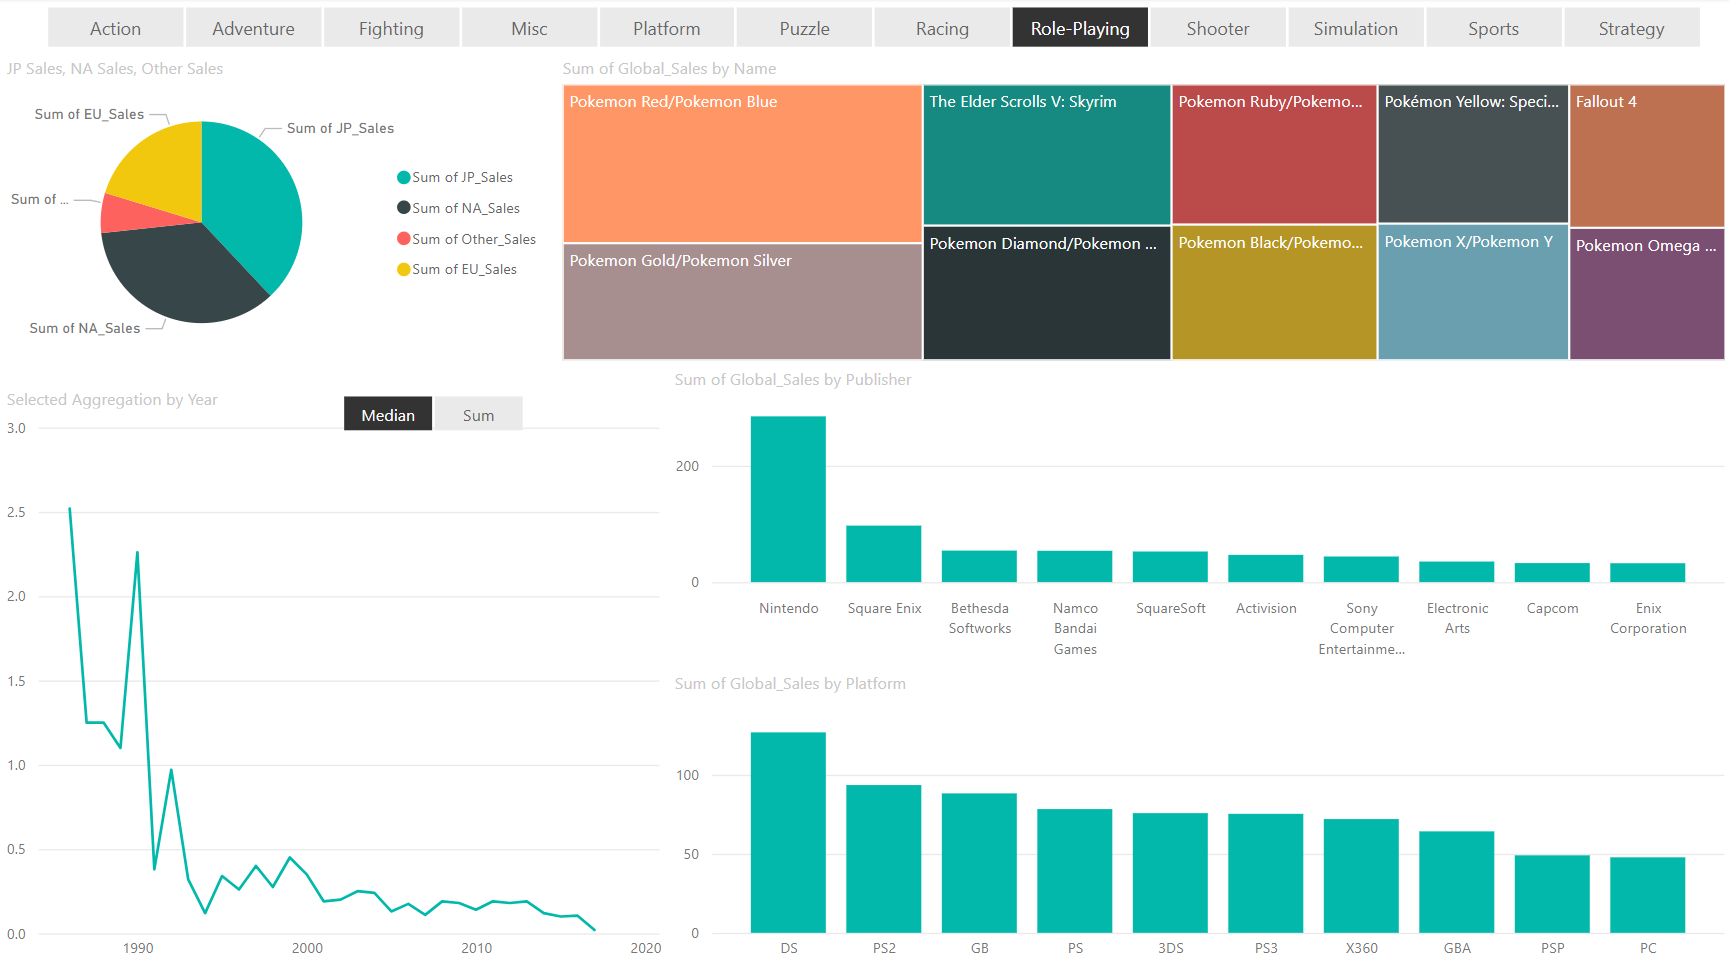

This screenshot's page, from the dashboard's own definition file:
{"tool":"powerbi","page":{"name":"Page 1","canvas":[1280,720],"ordinal":0},"visuals":[{"type":"slicer","fields":{"Values":["data.Genre"]},"box":[9.8,0,1270.5,42.8],"z":0},{"type":"pieChart","title":"JP Sales, NA Sales, Other Sales","fields":{"Y":["Sum(data.JP_Sales)","Sum(data.NA_Sales)","Sum(data.Other_Sales)","Sum(data.EU_Sales)"]},"box":[0,42.8,410.9,229.9],"z":1000},{"type":"lineChart","fields":{"Category":["data.Year"],"Y":["Aggregation Selection.Selected Aggregation"]},"box":[0,287.4,494,432.9],"z":2000},{"type":"slicer","fields":{"Values":["Aggregation Selection.Aggregation"]},"box":[228.7,287.4,182.2,39.1],"z":3000},{"type":"lineClusteredColumnComboChart","fields":{"Category":["data.Publisher"],"Y":["Sum(data.Global_Sales)"]},"box":[494,272.7,786.3,223],"z":3001},{"type":"lineClusteredColumnComboChart","fields":{"Category":["data.Platform"],"Y":["Sum(data.Global_Sales)"]},"box":[494,497.7,786.3,222.6],"z":3002},{"type":"treemap","fields":{"Group":["data.Name"],"Values":["Sum(data.Global_Sales)"]},"box":[410.9,42.8,869.4,229.9],"z":3003}]}

Visuals, with their boxes in screenshot pixels (x1, y1, x2, y2), scaled from the page's 1280x720 canvas onto the 1729x969 screenshot:
slicer - data.Genre: <bbox>13, 0, 1728, 58</bbox>
"JP Sales, NA Sales, Other Sales" pieChart: <bbox>0, 58, 555, 367</bbox>
lineChart - data.Year x Aggregation Selection.Selected Aggregation: <bbox>0, 387, 667, 968</bbox>
slicer - Aggregation Selection.Aggregation: <bbox>309, 387, 555, 439</bbox>
lineClusteredColumnComboChart - data.Publisher x Sum(data.Global_Sales): <bbox>667, 367, 1728, 667</bbox>
lineClusteredColumnComboChart - data.Platform x Sum(data.Global_Sales): <bbox>667, 670, 1728, 968</bbox>
treemap - data.Name x Sum(data.Global_Sales): <bbox>555, 58, 1728, 367</bbox>
